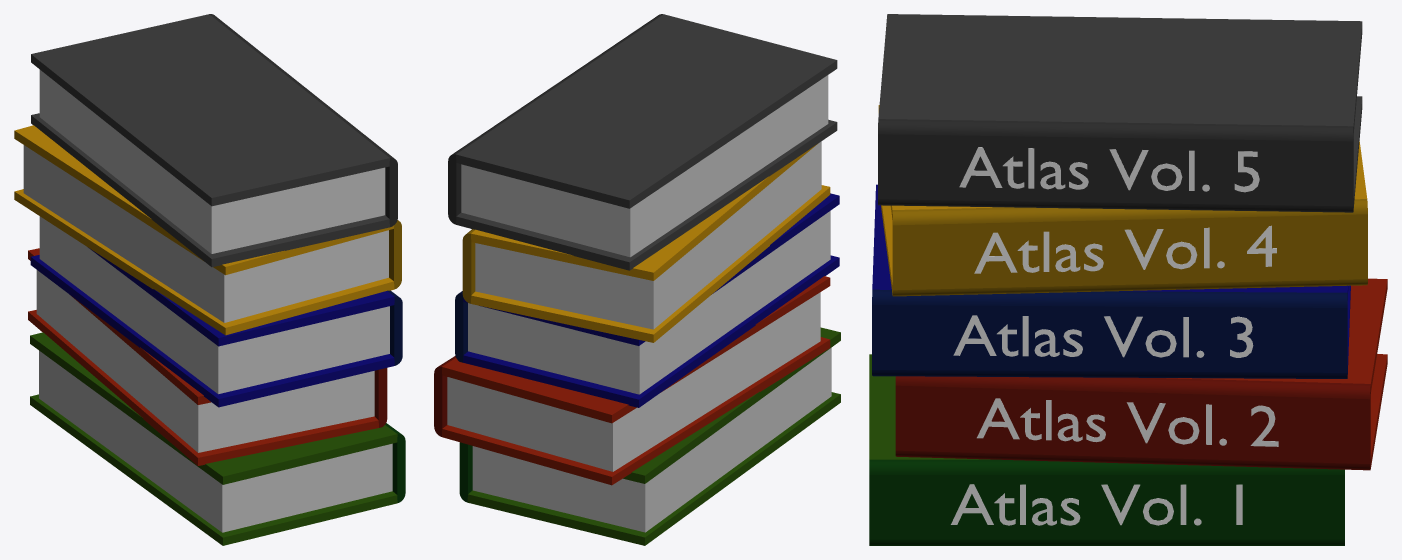
Rendered from Books.fbx.
3 renders of one model, left to right at view 1: azimuth 30°, elevation 25°; view 2: azimuth 150°, elevation 25°; view 3: azimuth 270°, elevation 25°, orthographic. The views are drawn at different scales.
Parts seen in each view (by area): view 1: Cube.003; view 2: Cube.003; view 3: Cube.003, Atlas Vol. 1.004, Atlas Vol. 1.003, Atlas Vol. 1.002, Atlas Vol. 1.001, Atlas Vol. 1.
Boxes of the visible parts, x1,y1,x2,y2 form: Cube.003: (14, 14, 405, 545); Cube.003: (434, 14, 840, 545); Cube.003: (869, 14, 1387, 545); Atlas Vol. 1.004: (959, 147, 1259, 192); Atlas Vol. 1.003: (974, 225, 1276, 273); Atlas Vol. 1.002: (953, 315, 1253, 357); Atlas Vol. 1.001: (977, 398, 1278, 446); Atlas Vol. 1: (951, 484, 1242, 525).
Bounding box in the file's own units: 35.13 × 55.03 × 61.01.
